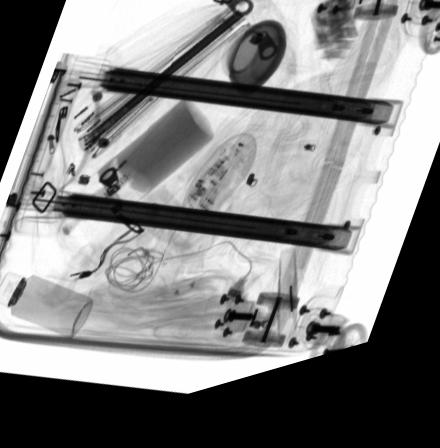Sprayer: (0, 271, 93, 343)
